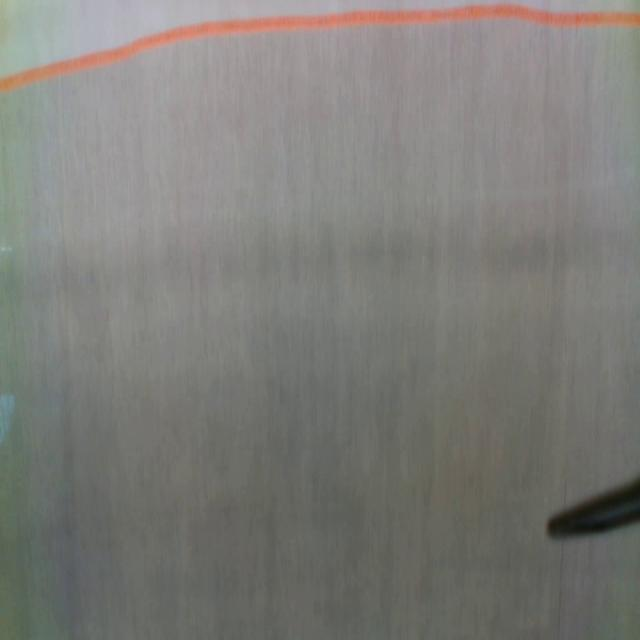color bleeding: (0, 212, 640, 310)
